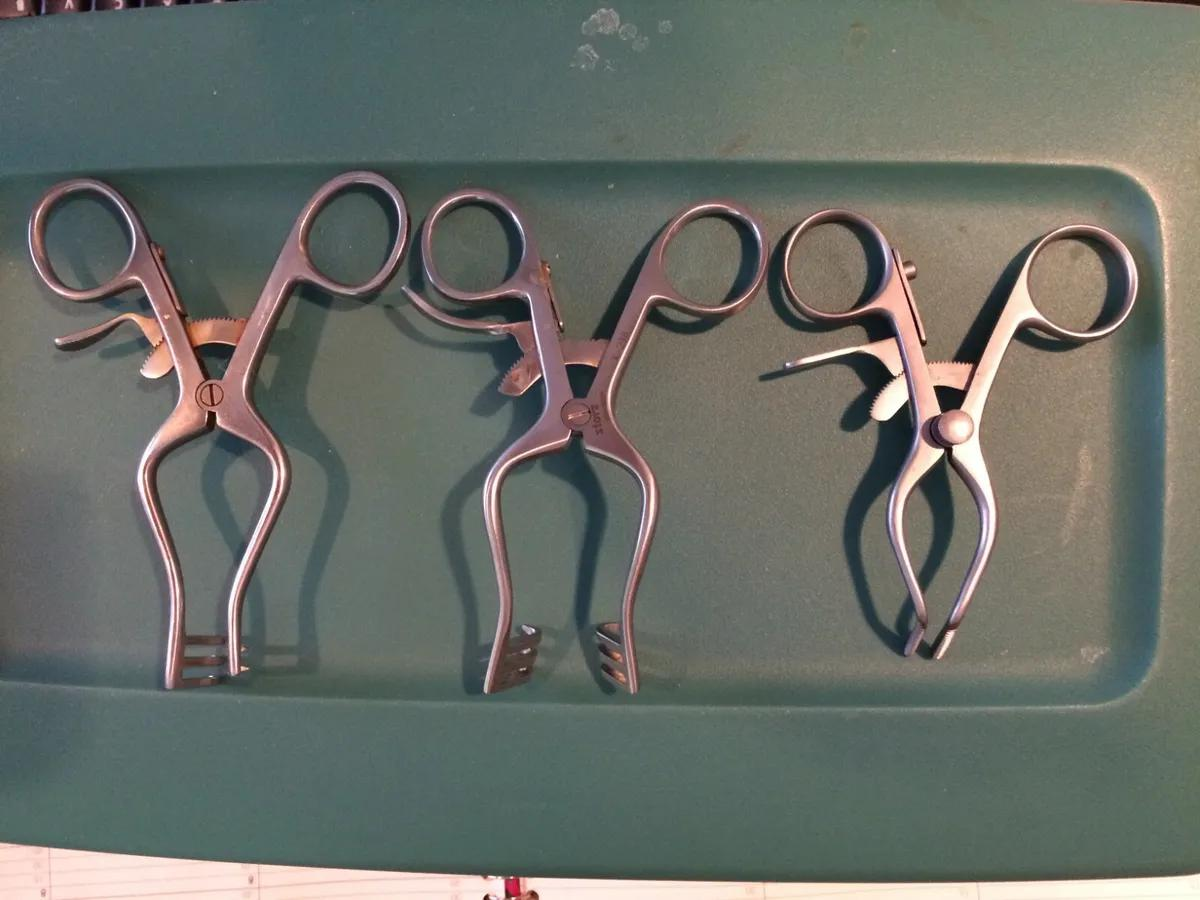Self Retractor: (21, 169, 407, 701), (410, 176, 784, 713), (767, 207, 1149, 671)
